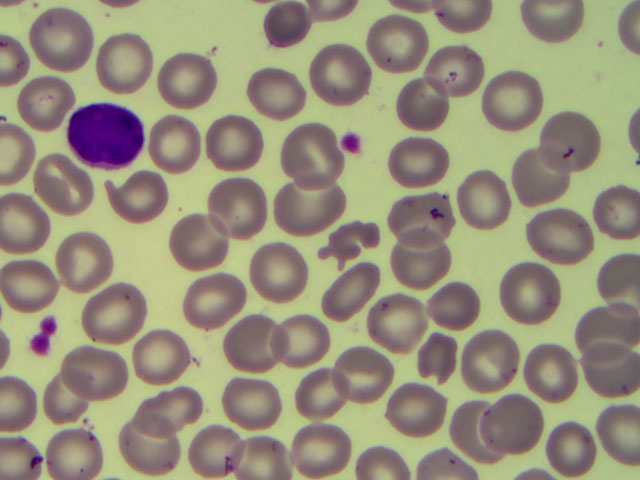Platelets: (30, 334, 57, 356), (36, 313, 59, 336), (343, 132, 363, 155)
RBC: (306, 43, 374, 107), (272, 181, 349, 237), (280, 121, 343, 188), (29, 8, 95, 71), (246, 241, 312, 303), (499, 262, 566, 323), (81, 282, 146, 343), (180, 270, 246, 330), (61, 341, 129, 399), (97, 31, 159, 92), (446, 400, 507, 462), (221, 313, 284, 373), (389, 191, 454, 249), (480, 70, 542, 130), (205, 177, 268, 236), (528, 207, 594, 263), (157, 51, 220, 109), (367, 291, 425, 354), (385, 381, 448, 439), (54, 230, 113, 291), (33, 153, 94, 212), (483, 395, 544, 454), (395, 78, 457, 136), (368, 15, 428, 74), (205, 115, 267, 172), (463, 325, 519, 388), (334, 346, 397, 402), (166, 213, 227, 270), (524, 340, 580, 402), (130, 328, 193, 383), (242, 67, 306, 121), (511, 149, 574, 203), (456, 170, 509, 234), (545, 109, 598, 173), (1, 188, 52, 254), (15, 74, 74, 131), (390, 231, 449, 286), (1, 258, 61, 311), (545, 422, 605, 475), (137, 384, 204, 431), (107, 179, 169, 228), (117, 423, 179, 472), (424, 47, 486, 96), (386, 139, 448, 188), (578, 347, 640, 396), (578, 303, 640, 352), (186, 425, 248, 474), (222, 376, 284, 425), (273, 316, 335, 365), (322, 217, 384, 266), (291, 426, 353, 475), (292, 371, 354, 420), (522, 1, 584, 49), (257, 1, 319, 49), (148, 116, 201, 171), (426, 281, 482, 331), (598, 402, 640, 463), (598, 253, 640, 313), (595, 185, 640, 240), (416, 332, 464, 382), (234, 436, 287, 480), (1, 377, 43, 431), (1, 123, 35, 187), (45, 377, 92, 423), (348, 445, 409, 480), (1, 436, 44, 480), (420, 449, 478, 480), (436, 1, 492, 31), (1, 37, 35, 84), (613, 1, 640, 55), (622, 109, 640, 155)
WBC: (69, 103, 144, 171)
